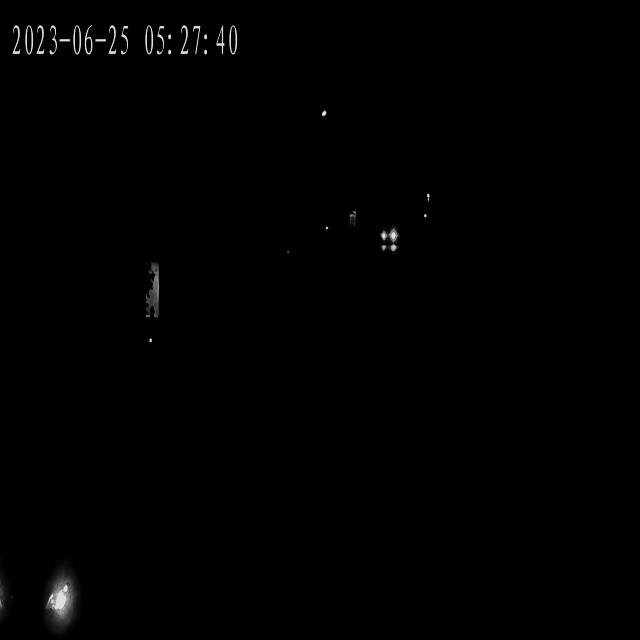Car: (0, 506, 98, 640), (380, 226, 399, 249)
